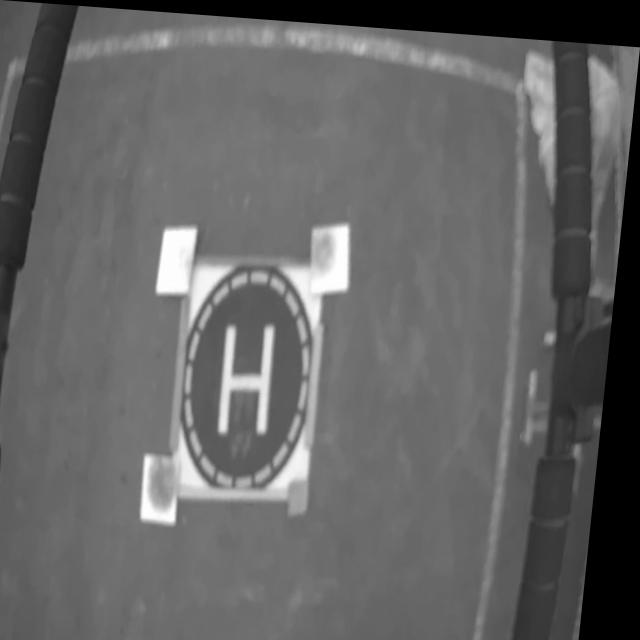Helipad: (226, 322, 282, 430)
